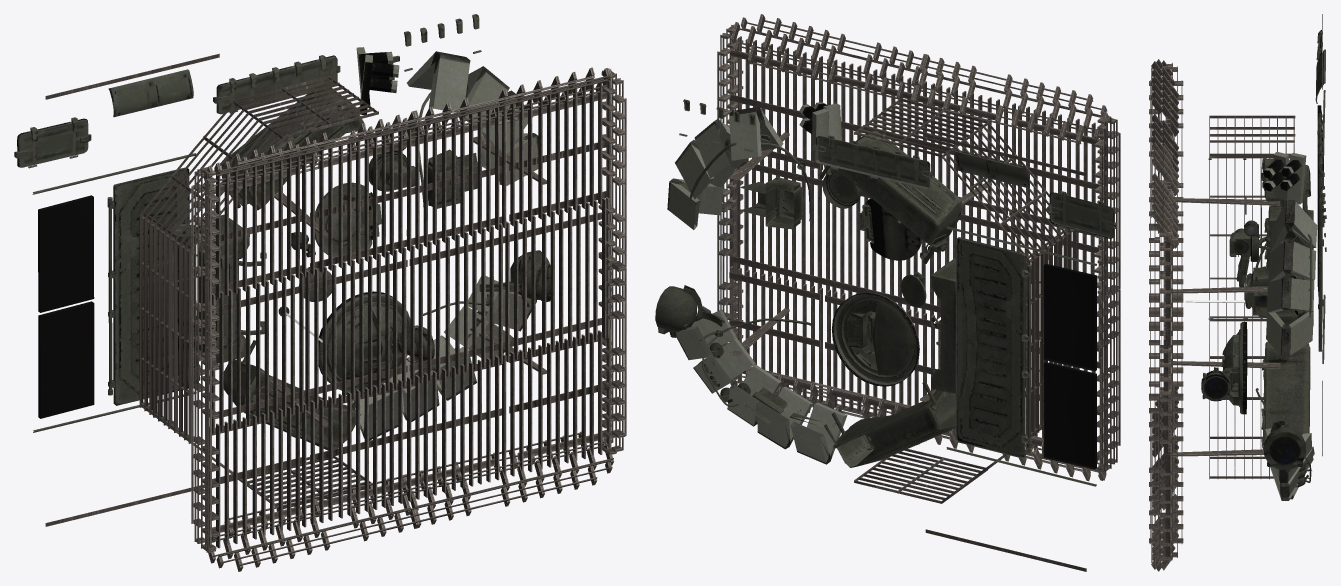
Rendered from turret.gltf.
3 views of the same model, side by side, from view 1: azimuth 30°, elevation 25°; view 2: azimuth 150°, elevation 25°; view 3: azimuth 270°, elevation 25° (orthographic). The views are drawn at different scales.
Parts seen in each view (by area): view 1: turret; view 2: turret; view 3: turret.
Boxes of the visible parts, bbox=[...] form: turret: bbox=[14, 14, 626, 571]; turret: bbox=[655, 14, 1120, 571]; turret: bbox=[1149, 14, 1326, 571].
Bounding box in the file's own units: 4.24 × 3.4 × 1.48.
7 materials, 5 textured.
